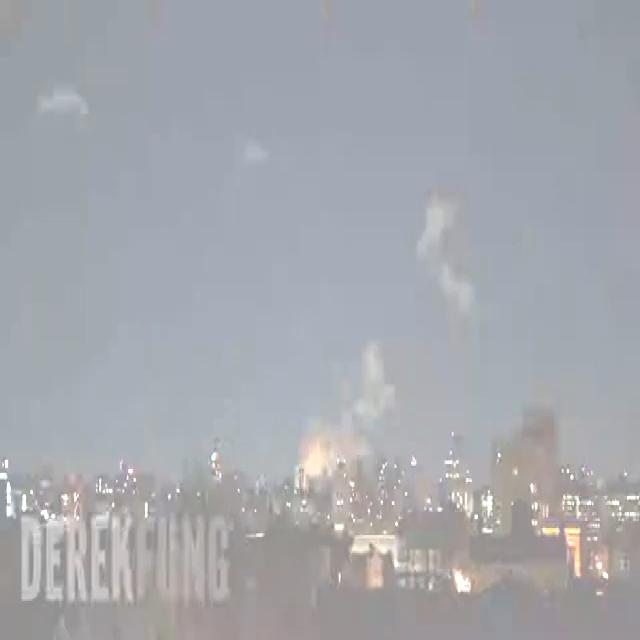smoke: (296, 345, 395, 476)
